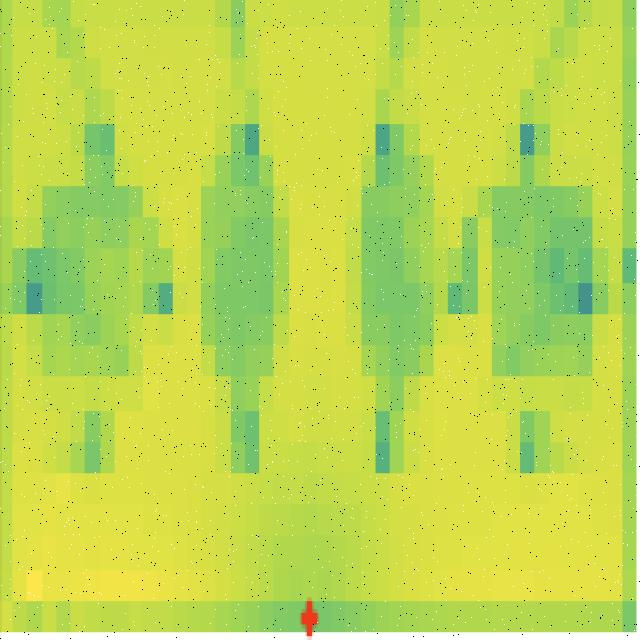Concrete: (361, 160, 440, 386)
Glass: (200, 184, 289, 382)
Metal: (492, 186, 593, 379)
Wood: (42, 185, 144, 385)
